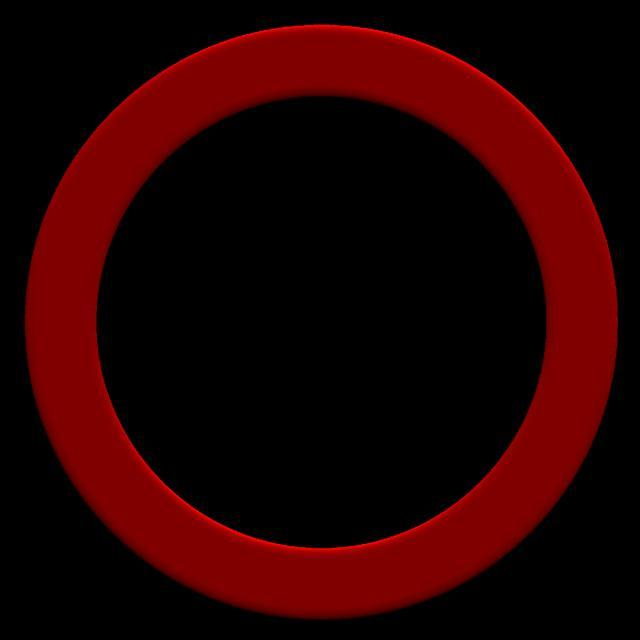Circle: (20, 24, 622, 625)
